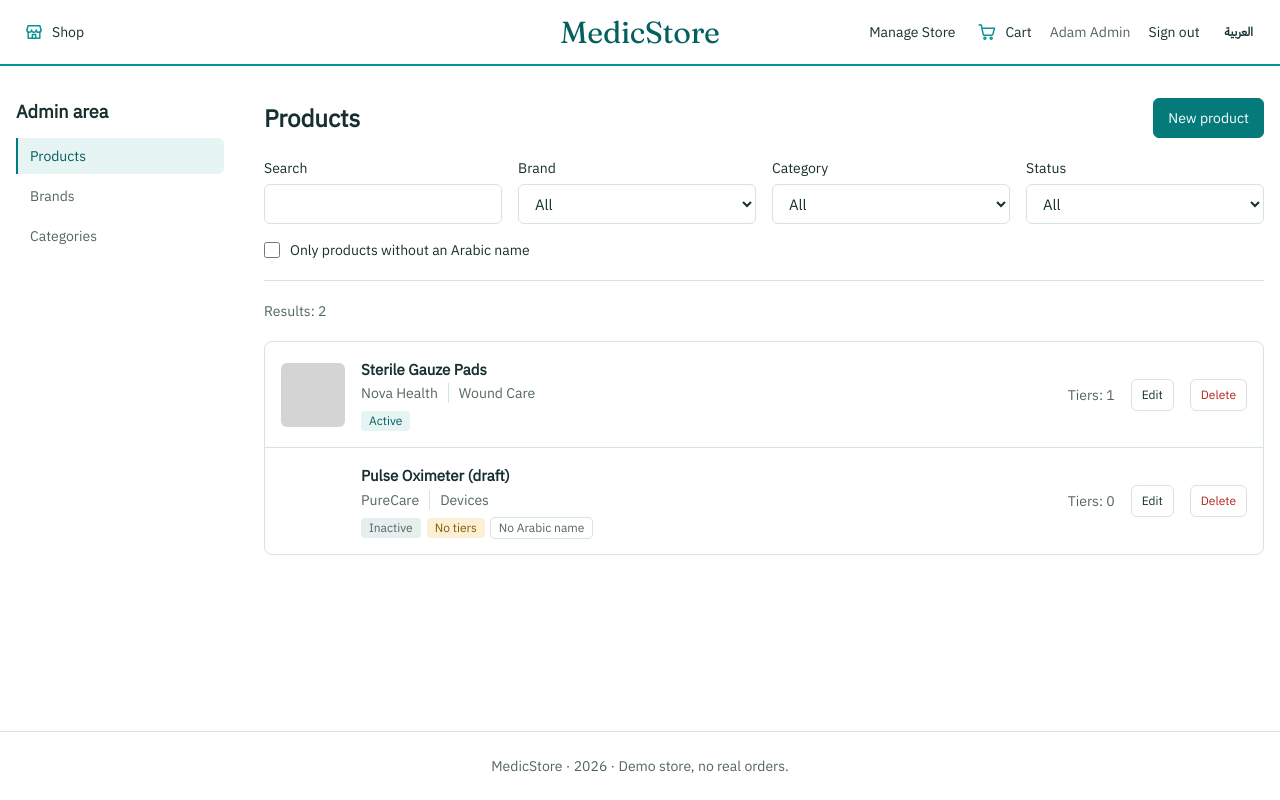
deleting a product asks first, then deletes and reloads
Step 1. Click the button "Delete" in the row of "Nova Health" → (1218, 395), box [1190, 379, 1247, 411]
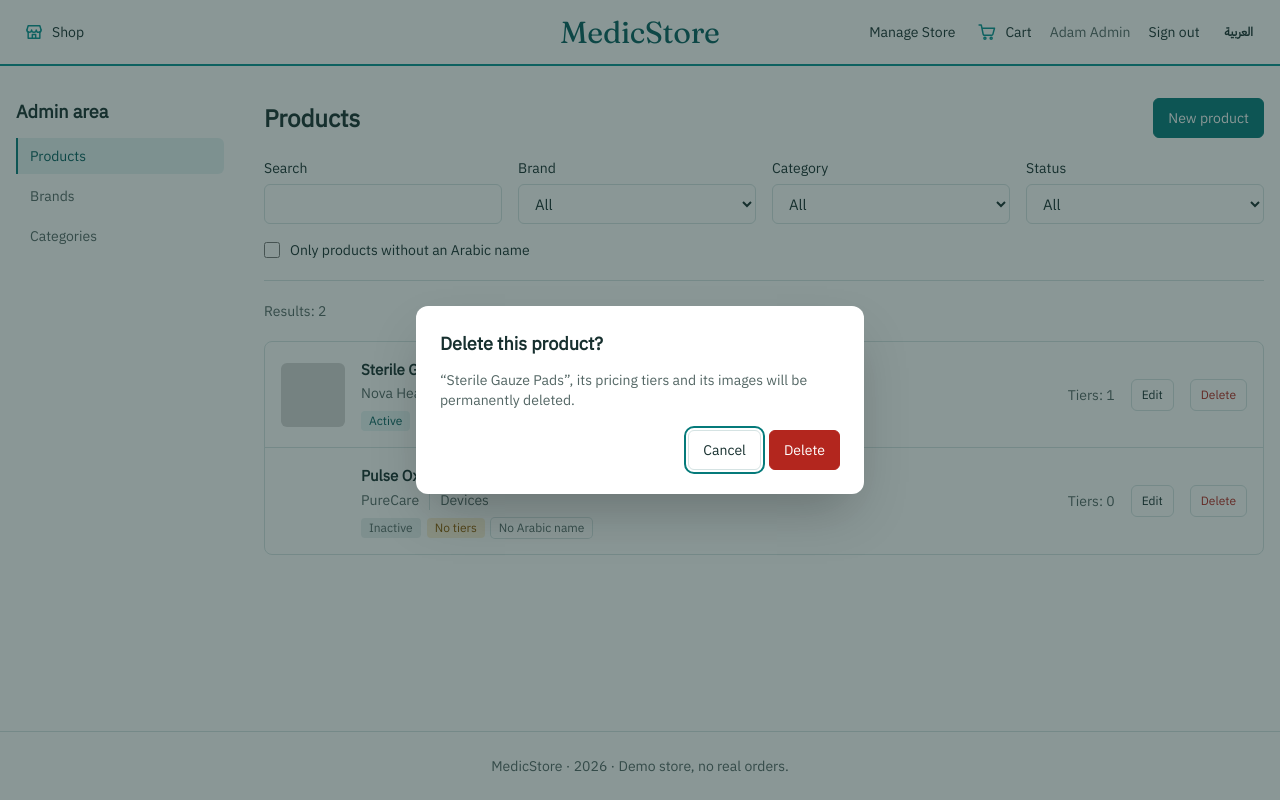
Check: the dialog "Delete this product?" shows "its pricing tiers and its images will be permanently deleted", box [440, 371, 807, 409]
Step 2. Click the button "Delete" → (804, 450), box [769, 430, 840, 470]
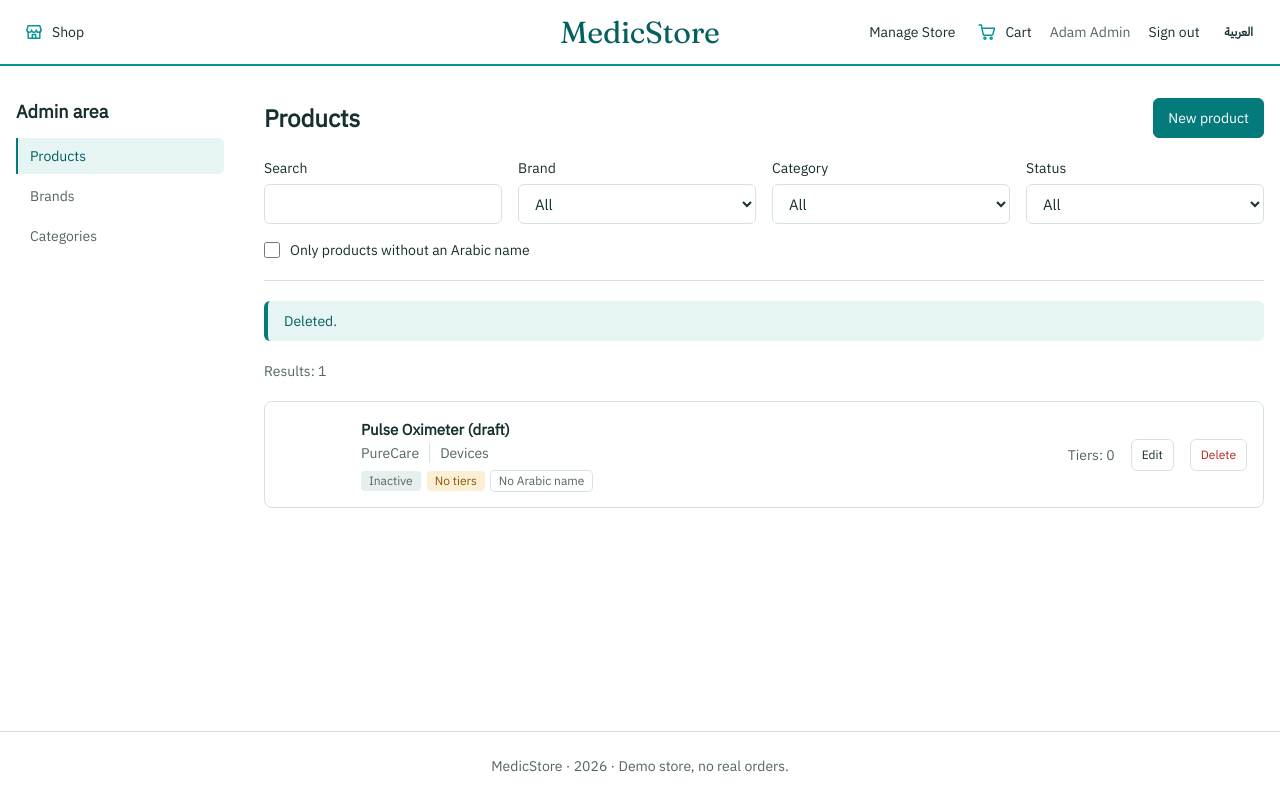
Check: the text "Deleted." is shown, box [264, 301, 1264, 341]
Check: the link "Sterile Gauze Pads" is gone
